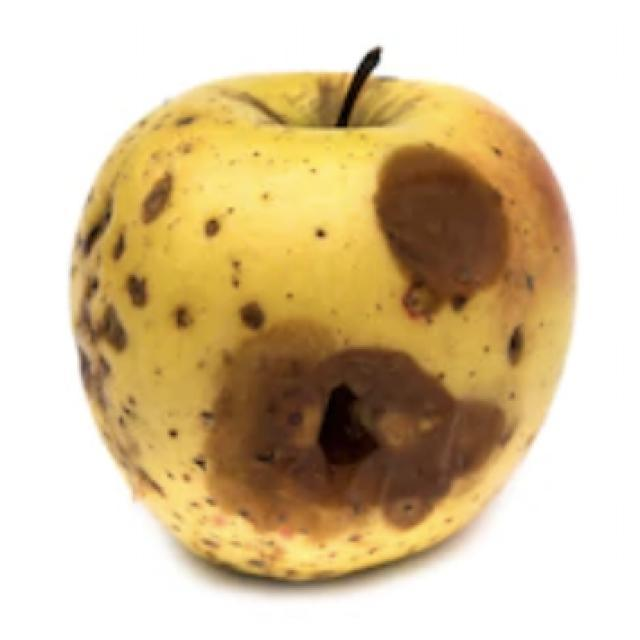Rotten: (88, 68, 537, 562)
